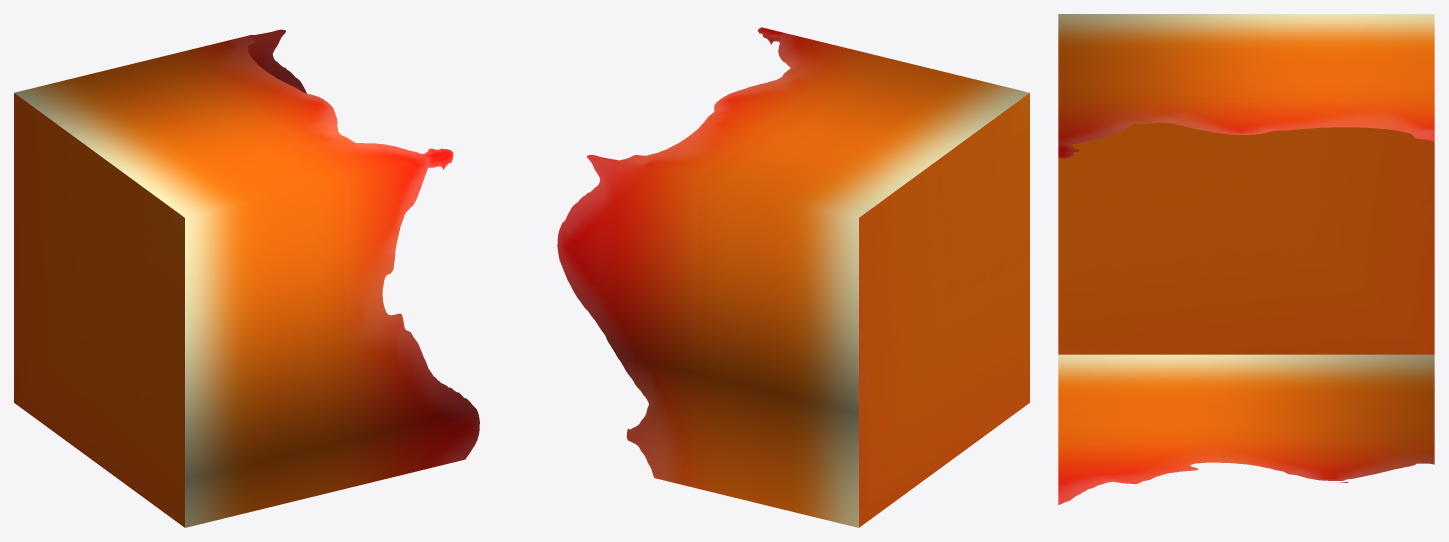
The model's file is yuanzhu4.FBX.
3 renders of one model, left to right at view 1: azimuth 30°, elevation 25°; view 2: azimuth 150°, elevation 25°; view 3: azimuth 270°, elevation 25°, orthographic. The views are drawn at different scales.
Parts seen in each view (by area): view 1: Cylinder001; view 2: Cylinder001; view 3: Cylinder001.
Boxes of the visible parts, bbox=[...] form: Cylinder001: bbox=[14, 29, 479, 527]; Cylinder001: bbox=[557, 27, 1029, 527]; Cylinder001: bbox=[1058, 14, 1434, 504].
Size of the model in its own units: 8.76 by 8.03 by 8.03.
